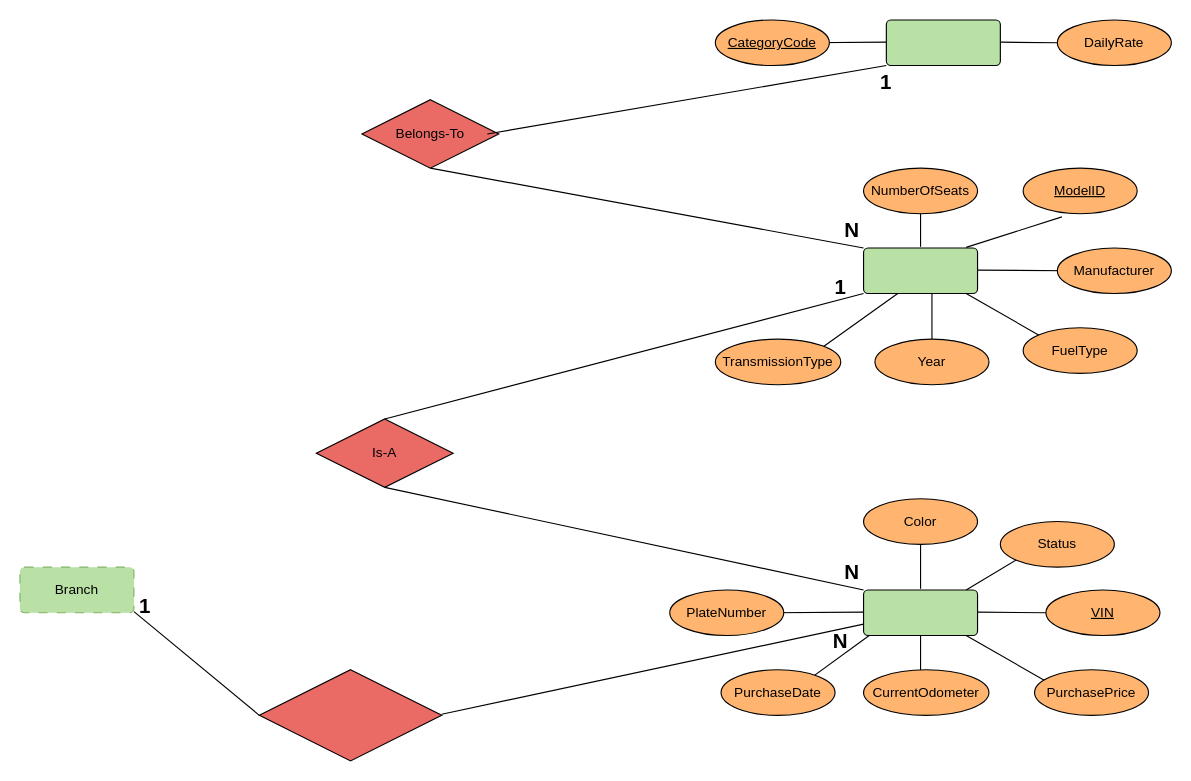
This 1191x781 diagram has some shape labels left out. The shapes that lost their labels are listed below. From the top down, each one's centre as x and y in pixels, then its label:
At pixel 942 42: "Category".
At pixel 920 270: "CarModel".
At pixel 920 612: "Vehicle".
At pixel 350 715: "Belongs-To-Home-Branch".
